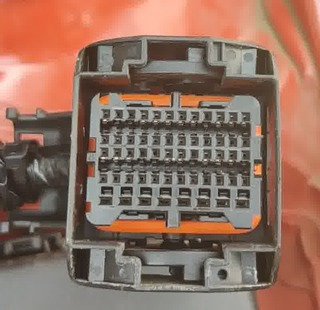connector: (66, 34, 282, 293)
